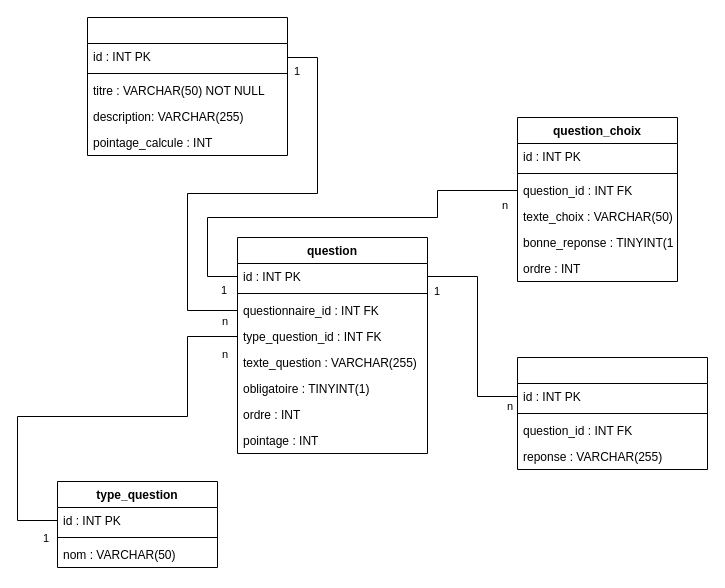
This 725x588 diagram has some shape labels left out. Here are the shapes that lost their labels. From the top down, the box of each, then its label:
(86, 16, 288, 156): questionnaire
(516, 356, 708, 470): question_texte_reponse
